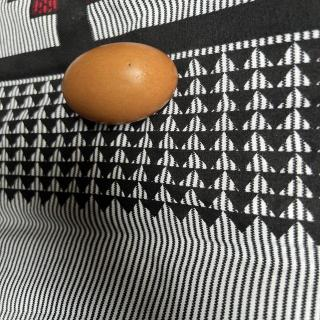Telur: (60, 41, 182, 126)
